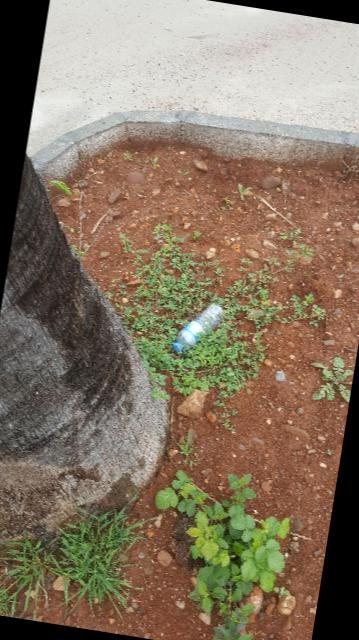plastic: (171, 304, 222, 353)
